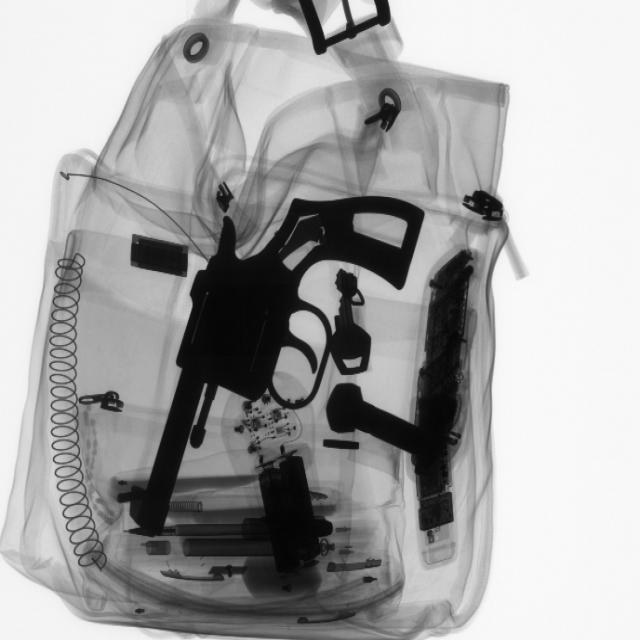GUN: (137, 179, 446, 547)
